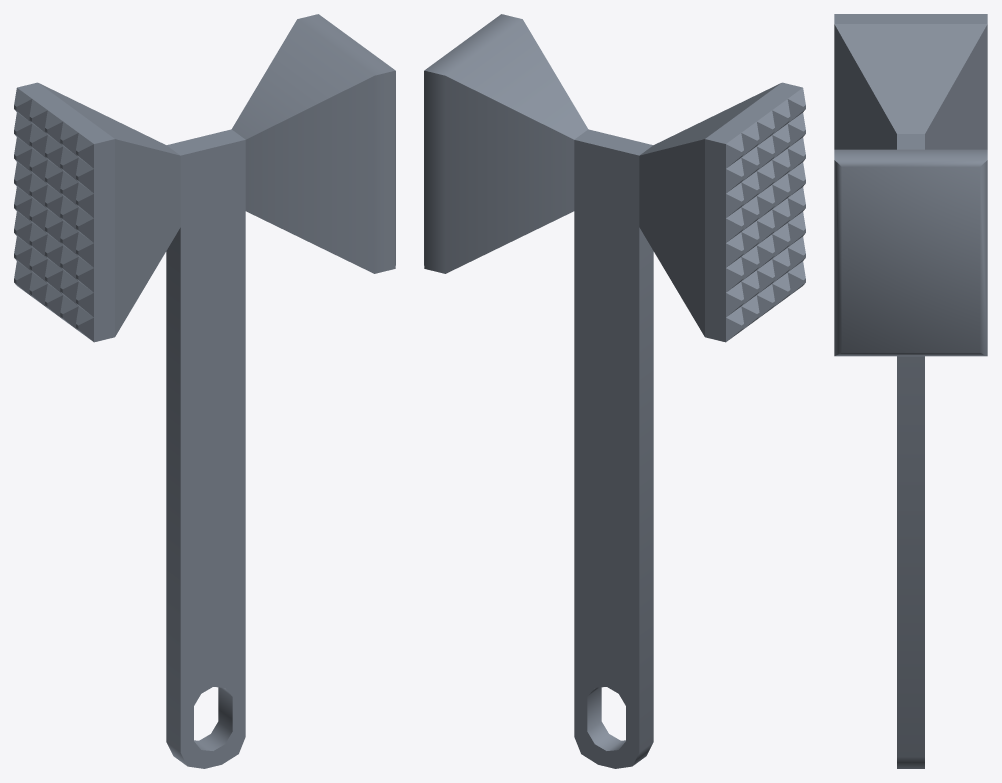
The model's file is Meat Mallet.glb.
3 renders of one model, left to right at view 1: azimuth 30°, elevation 25°; view 2: azimuth 150°, elevation 25°; view 3: azimuth 270°, elevation 25°, orthographic.
Parts seen in each view (by area): view 1: cutensils_meat_mallet_Cube.293; view 2: cutensils_meat_mallet_Cube.293; view 3: cutensils_meat_mallet_Cube.293.
Boxes of the visible parts, x1,y1,x2,y2 form: cutensils_meat_mallet_Cube.293: [14, 14, 395, 768]; cutensils_meat_mallet_Cube.293: [424, 14, 805, 768]; cutensils_meat_mallet_Cube.293: [834, 14, 987, 768].
Bounding box in the file's own units: 3.03 × 6.28 × 1.29.
1 material, 1 textured.
